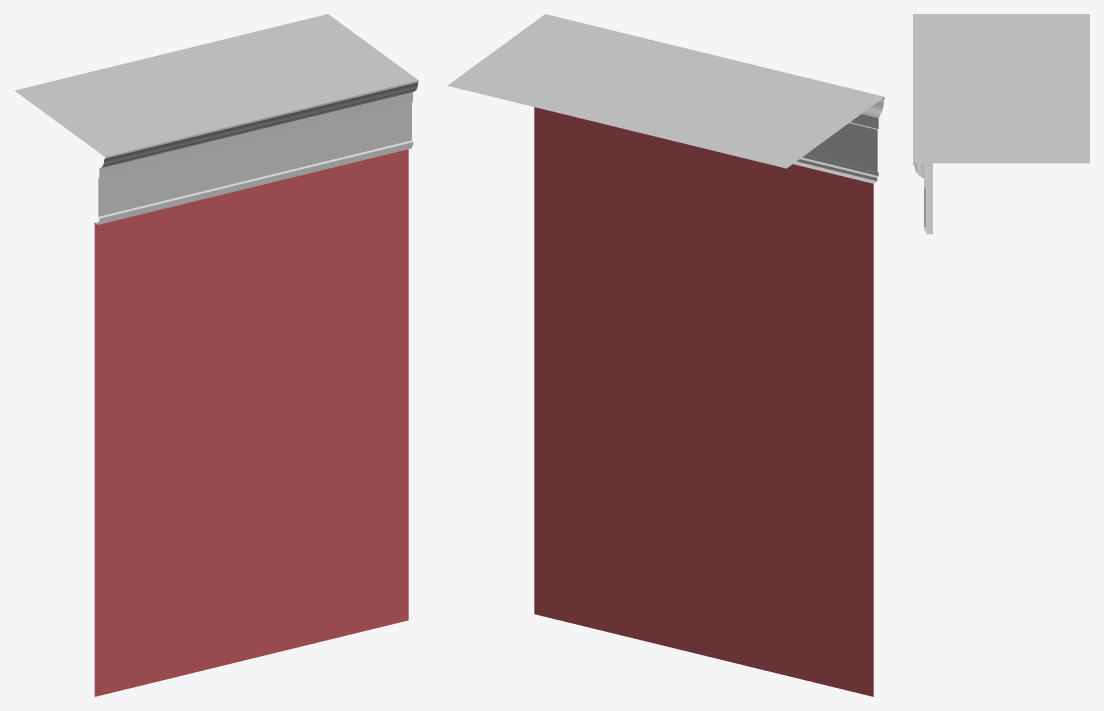
File: station_wall_centerS.fbx
3 views of the same model, side by side, from view 1: azimuth 30°, elevation 25°; view 2: azimuth 150°, elevation 25°; view 3: azimuth 270°, elevation 25° (orthographic). The views are drawn at different scales.
Parts seen in each view (by area): view 1: wall_centerS; view 2: wall_centerS; view 3: wall_centerS.
Part boxes in pixels (left/top/right/bottom): wall_centerS: left=14, top=14, right=418, bottom=696; wall_centerS: left=447, top=14, right=884, bottom=696; wall_centerS: left=913, top=14, right=1089, bottom=234.
Size of the model in its own units: 0.9 by 1.5 by 0.4505.
